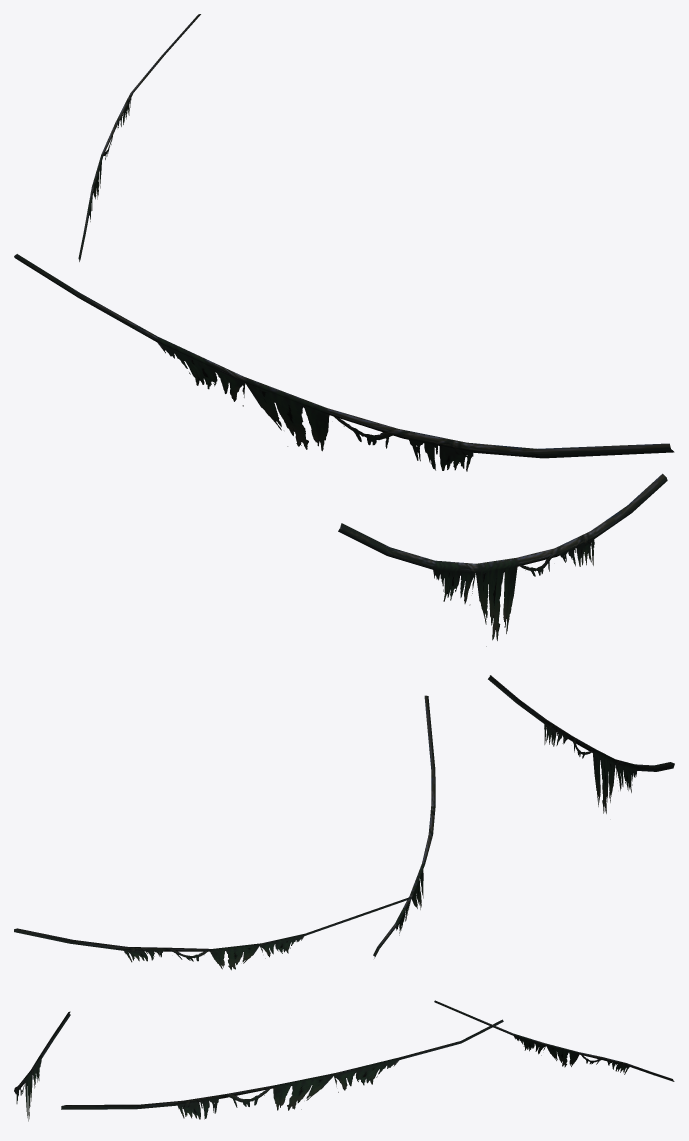
The model's file is Cimelia_Cane vine_01.FBX.
The picture shows the model from 3 angles, top to bottom: view 1: azimuth 30°, elevation 25°; view 2: azimuth 150°, elevation 25°; view 3: azimuth 270°, elevation 25°; orthographic projection. The views are drawn at different scales.
Visible parts, largest first — view 1: Cimelia_Cane vine_01; view 2: Cimelia_Cane vine_01; view 3: Cimelia_Cane vine_01.
Part boxes in pixels (box(x1,y1,x2,y2)): Cimelia_Cane vine_01: box(14, 14, 674, 646); Cimelia_Cane vine_01: box(14, 675, 674, 970); Cimelia_Cane vine_01: box(14, 1000, 674, 1121).
Bounding box in the file's own units: 10.95 × 5.46 × 28.69.
